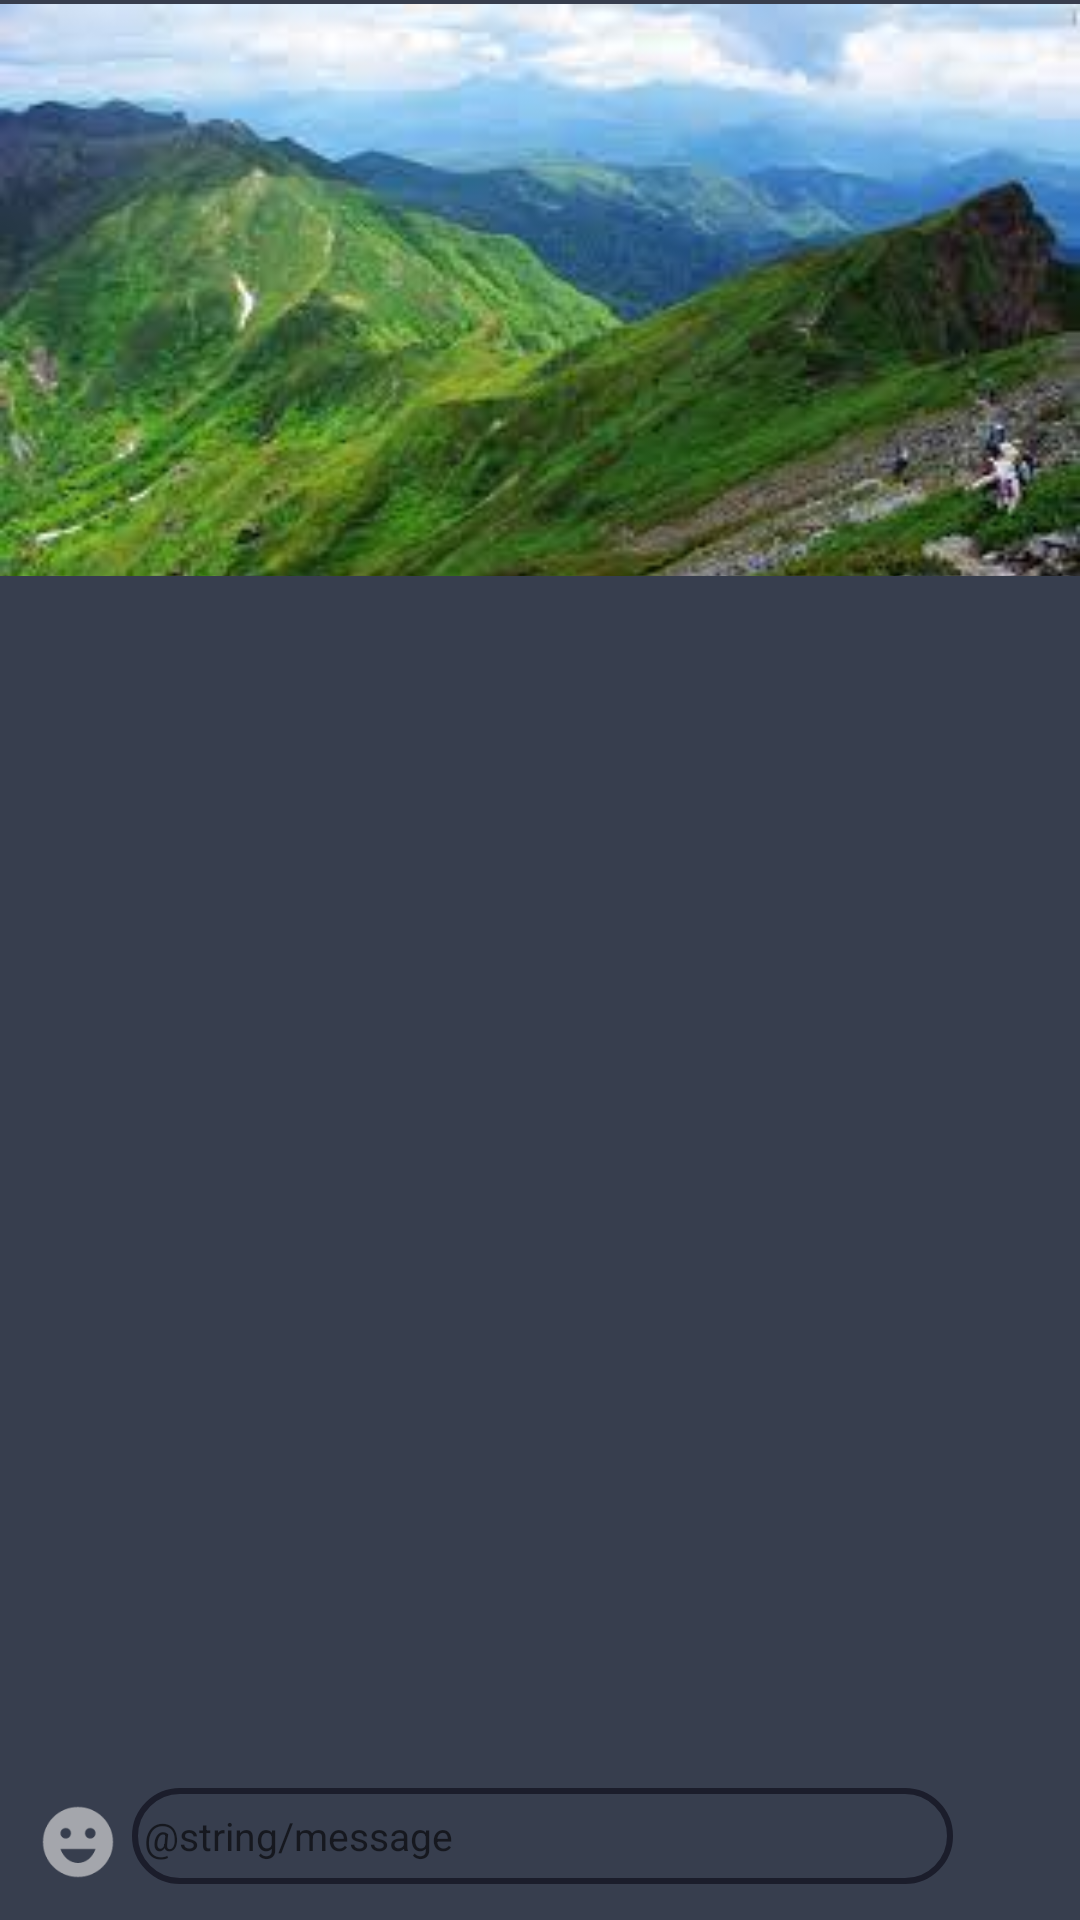

Named icons in this screenshot (1080*1920) and their bounding boxes, (x1, y1, x2, y2):
emoji emotions: (43, 1807, 113, 1877)
